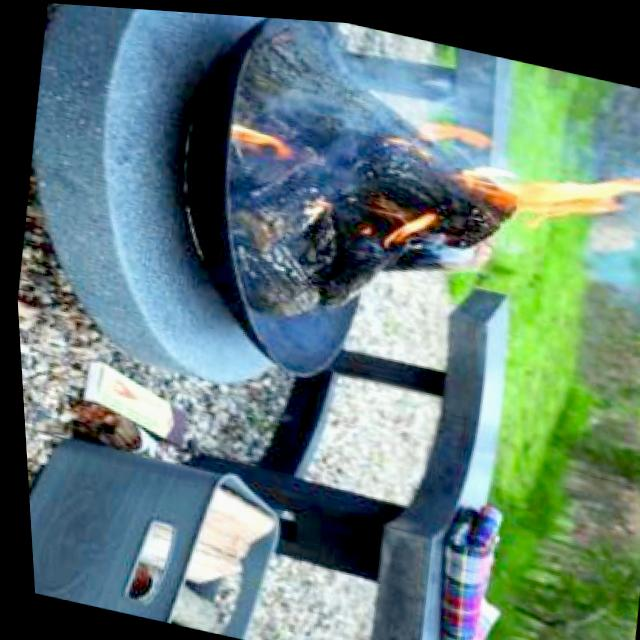helmet: (445, 116, 640, 247), (378, 98, 500, 174), (210, 107, 316, 169)
